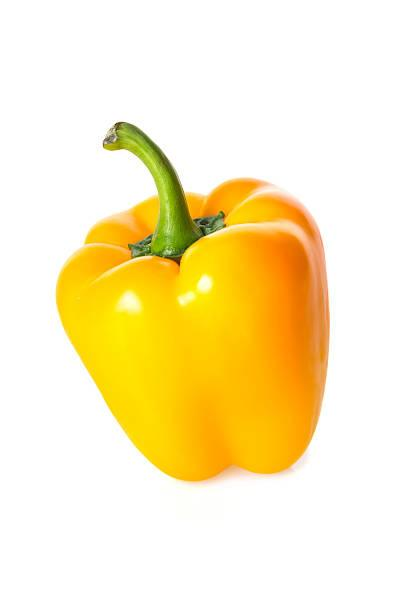Capsicum: (57, 179, 326, 480)
